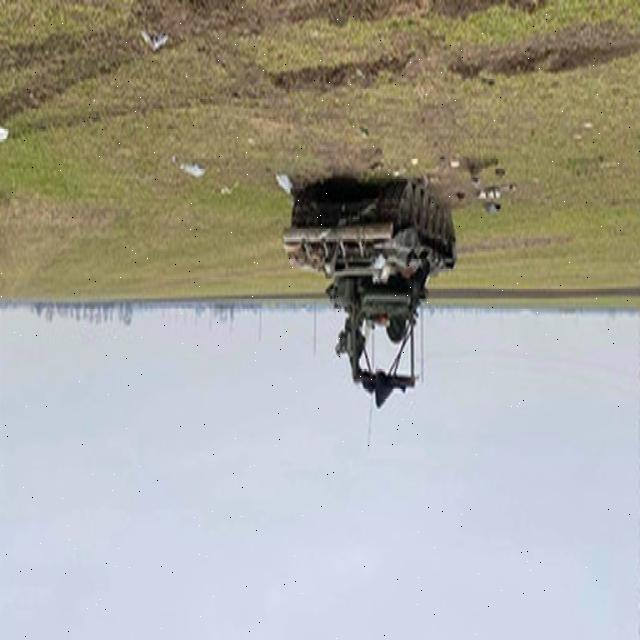TANK: (276, 165, 462, 406)
